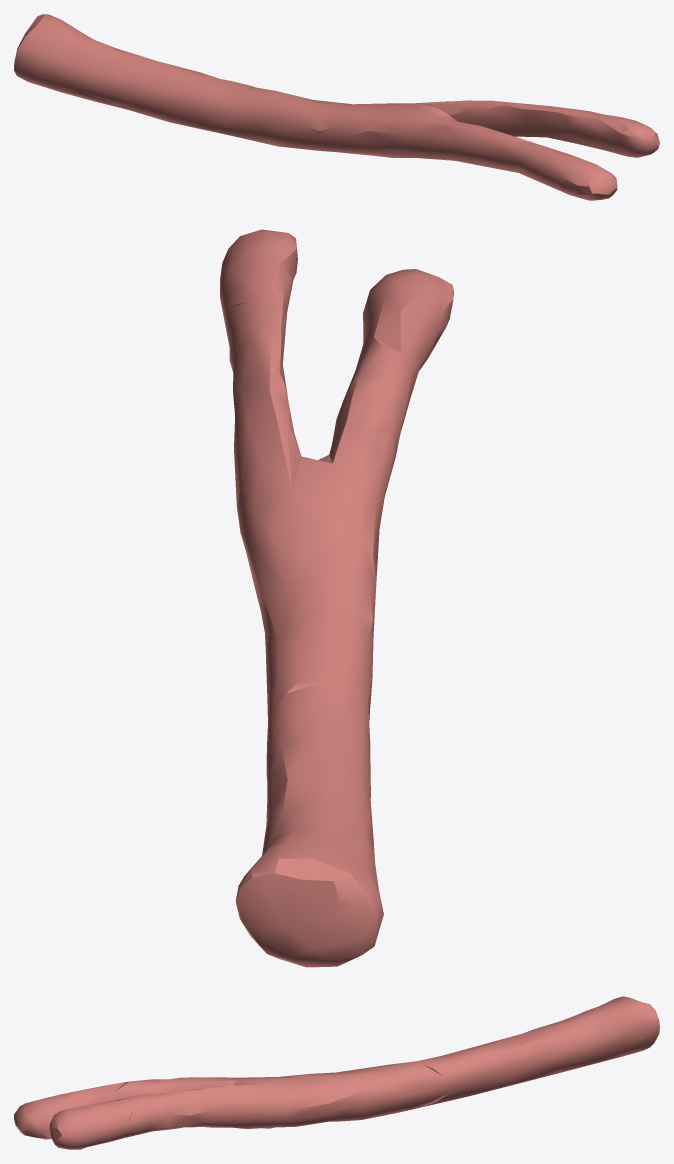
The model's file is fma223218_mm1751.glb.
3 views of the same model, one above another, from view 1: azimuth 30°, elevation 25°; view 2: azimuth 150°, elevation 25°; view 3: azimuth 270°, elevation 25° (orthographic). The views are drawn at different scales.
Parts seen in each view (by area): view 1: FMA223218_MM1751; view 2: FMA223218_MM1751; view 3: FMA223218_MM1751.
Part boxes in pixels (left/top/right/bottom): FMA223218_MM1751: left=14, top=14, right=659, bottom=200; FMA223218_MM1751: left=220, top=229, right=453, bottom=967; FMA223218_MM1751: left=14, top=996, right=659, bottom=1149.
Bounding box in the file's own units: 0.031 × 0.00782 × 0.0491.
